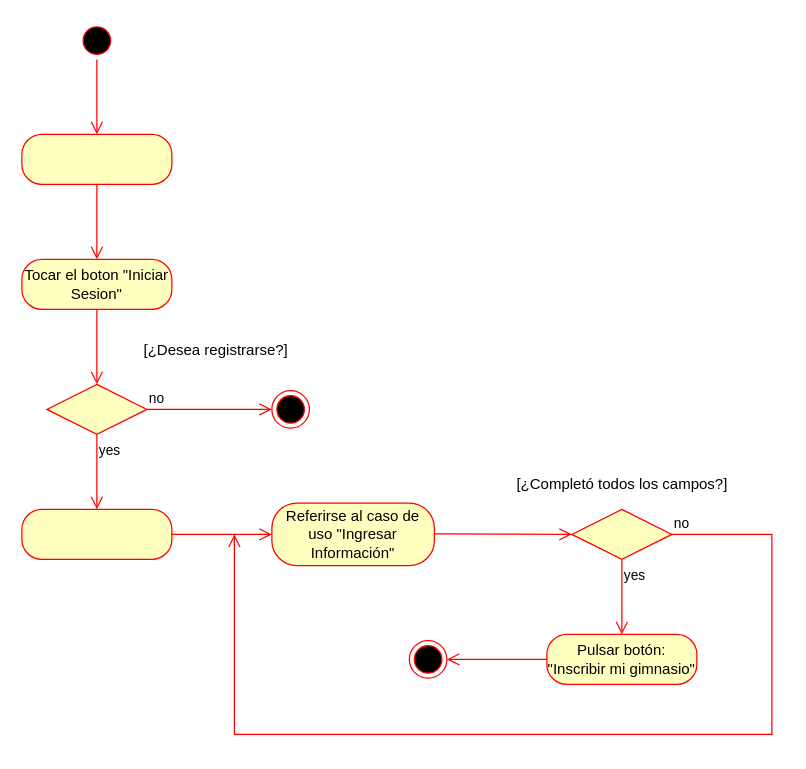
Some shapes in this 806 by 769 pixel diagram are drawn without their labels. The box of each missing label's shape, as (x1, y1, x2, y2) in pixels:
Hacer clic en "Adherirte como gimnasio": (21, 508, 172, 559)
Ingresar a la pagina: (21, 133, 172, 184)
